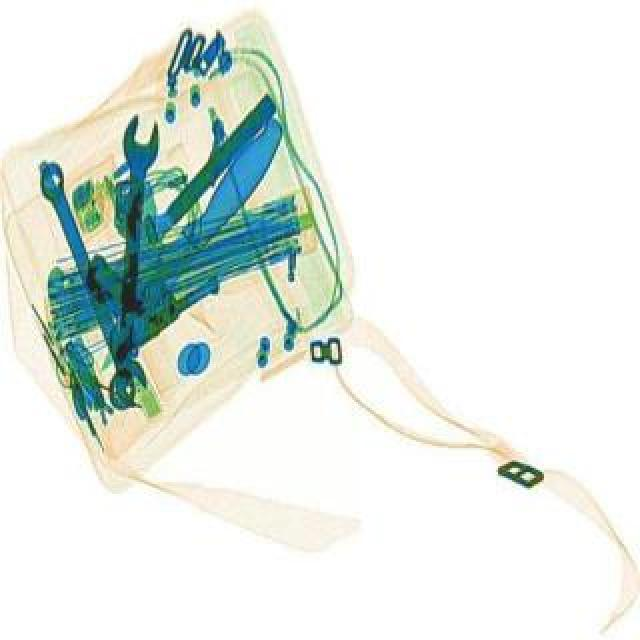gun: (50, 206, 226, 364)
knife: (86, 114, 298, 376), (76, 94, 282, 320)
scissors: (28, 158, 156, 410), (104, 114, 160, 410)
